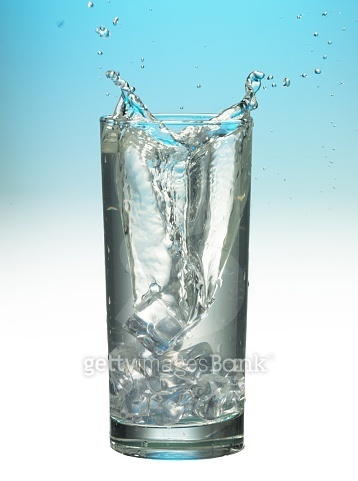glass of water: (99, 72, 258, 462)
